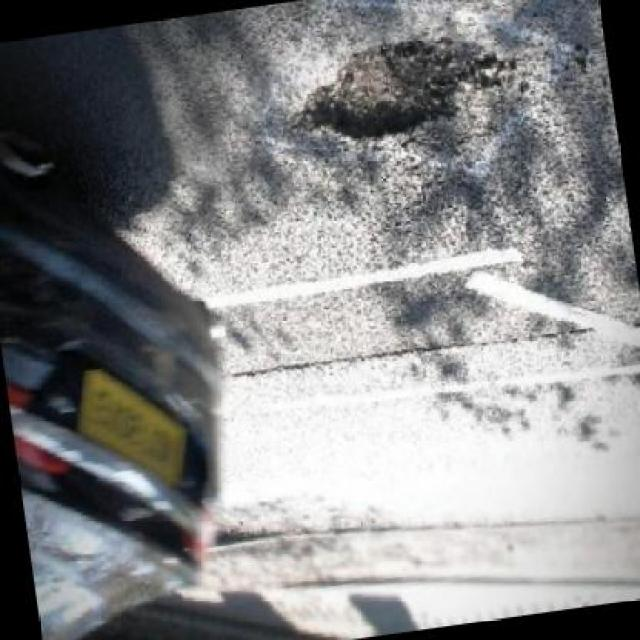pothole1: (281, 25, 499, 153), (208, 517, 270, 551)
